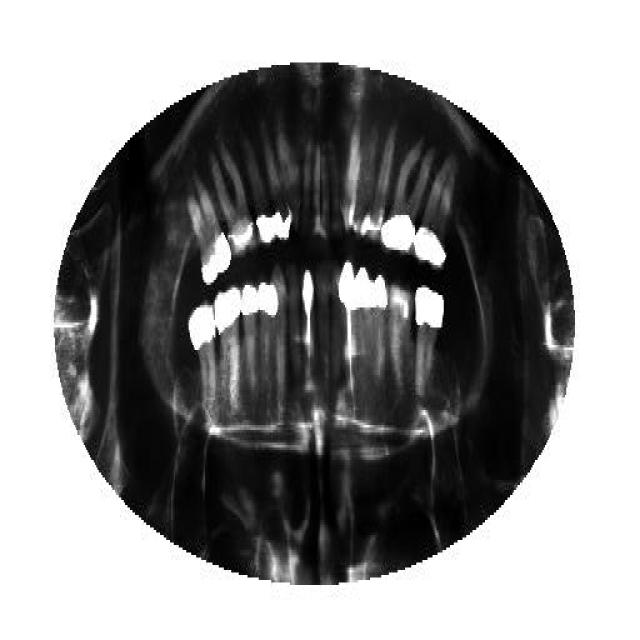Fillings: (381, 143, 430, 255), (244, 130, 291, 240), (186, 180, 232, 285), (211, 142, 251, 252), (415, 160, 454, 270), (211, 288, 241, 418), (188, 300, 218, 418), (412, 288, 443, 398), (241, 288, 261, 408), (351, 267, 370, 385), (259, 285, 279, 397), (368, 275, 388, 383)
Implant: (339, 262, 355, 398), (301, 265, 315, 370)
